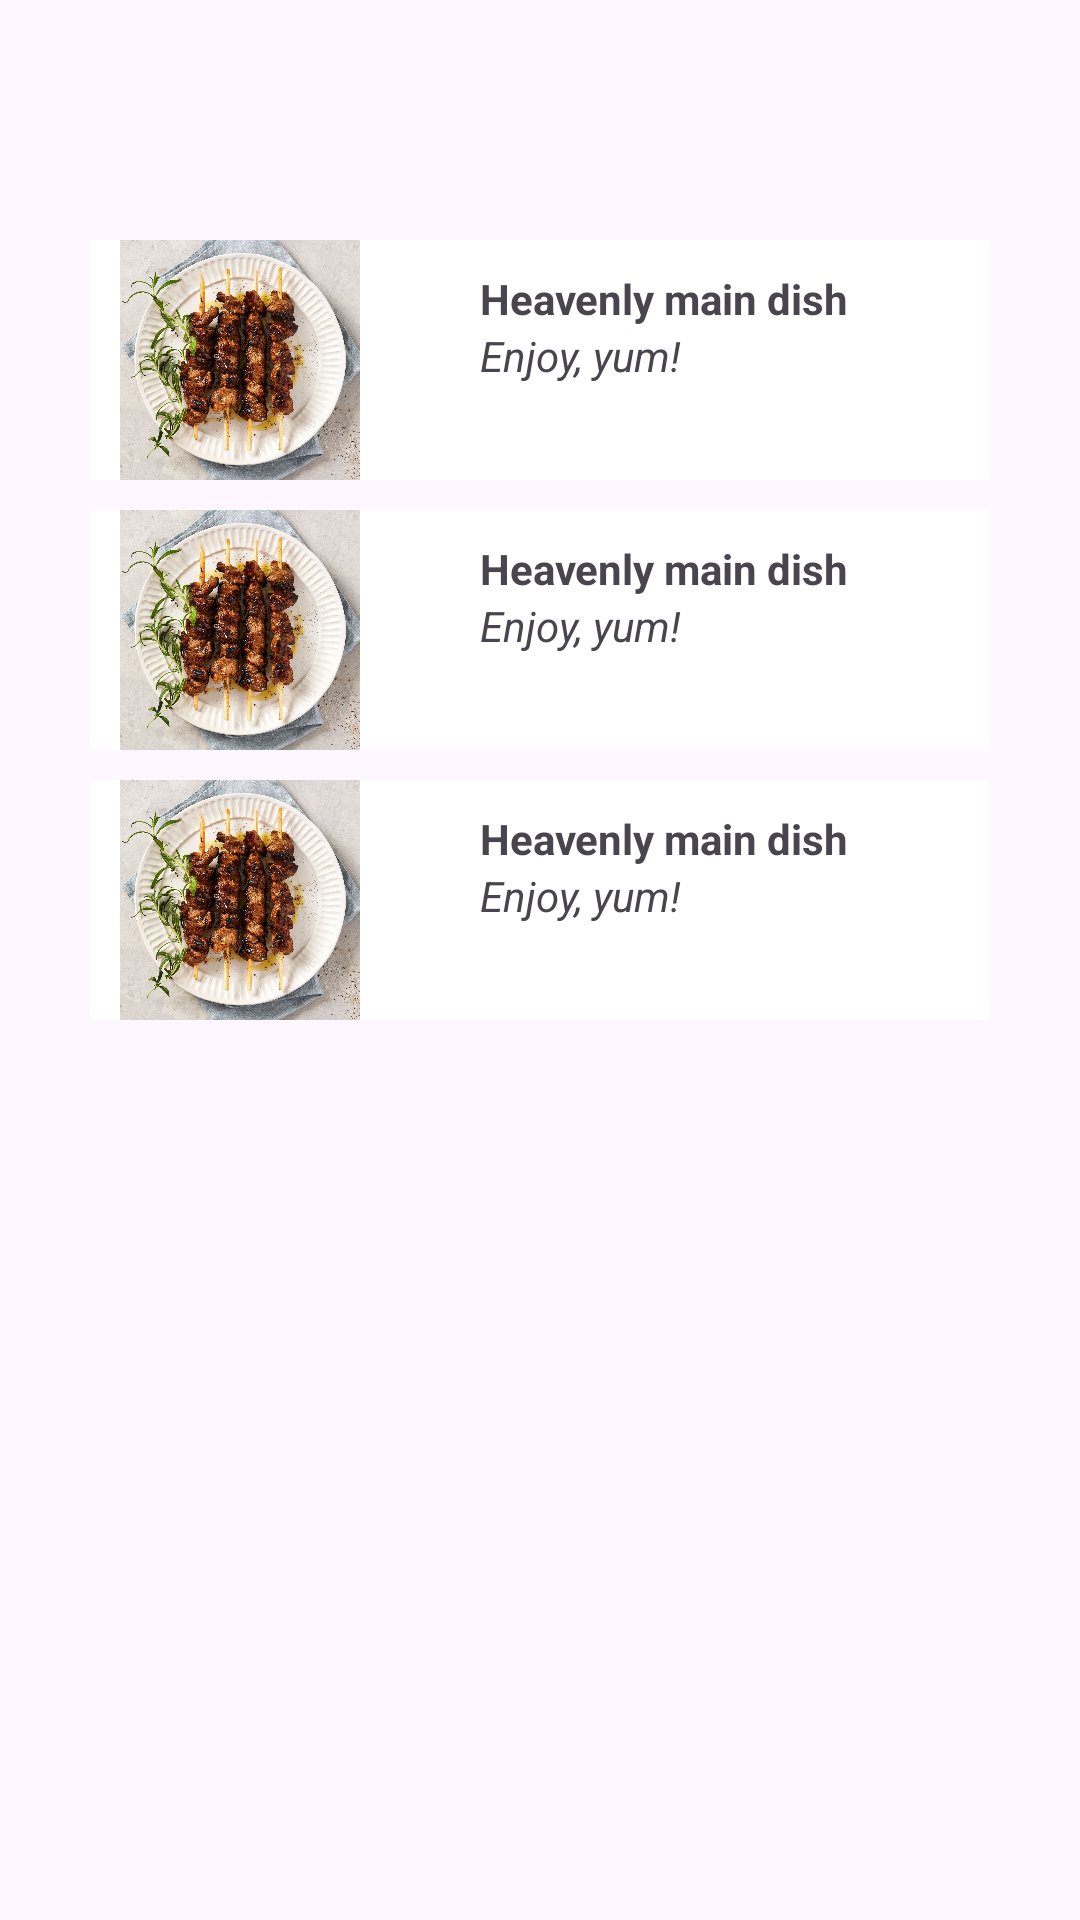

Icons on this 1080x1920 Android screen, each with its box as [x1=x1, y1=y1, x2=x2, y2=y2]:
souvlaki: [x1=120, y1=240, x2=360, y2=480], [x1=120, y1=510, x2=360, y2=750], [x1=120, y1=780, x2=360, y2=1020]
